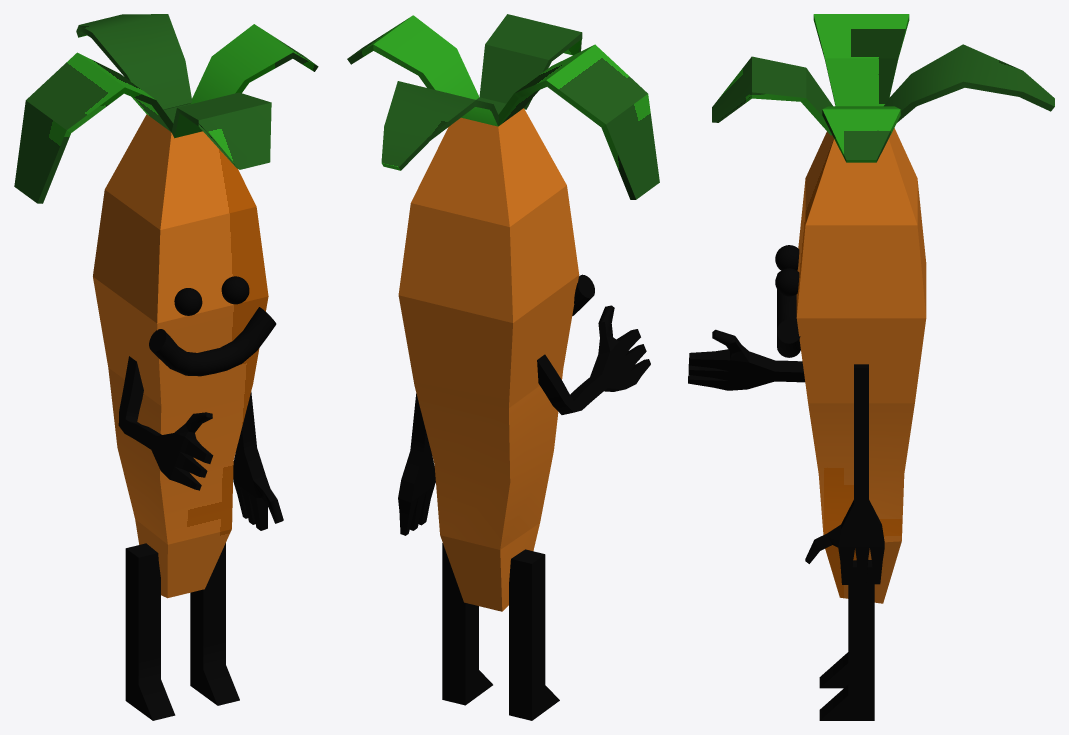
The model's file is CarrotSan.glb.
3 renders of one model, left to right at view 1: azimuth 30°, elevation 25°; view 2: azimuth 150°, elevation 25°; view 3: azimuth 270°, elevation 25°, orthographic. The views are drawn at different scales.
Size of the model in its own units: 44.49 by 95.98 by 49.2.
Materials: 2 (1 with a texture image).
